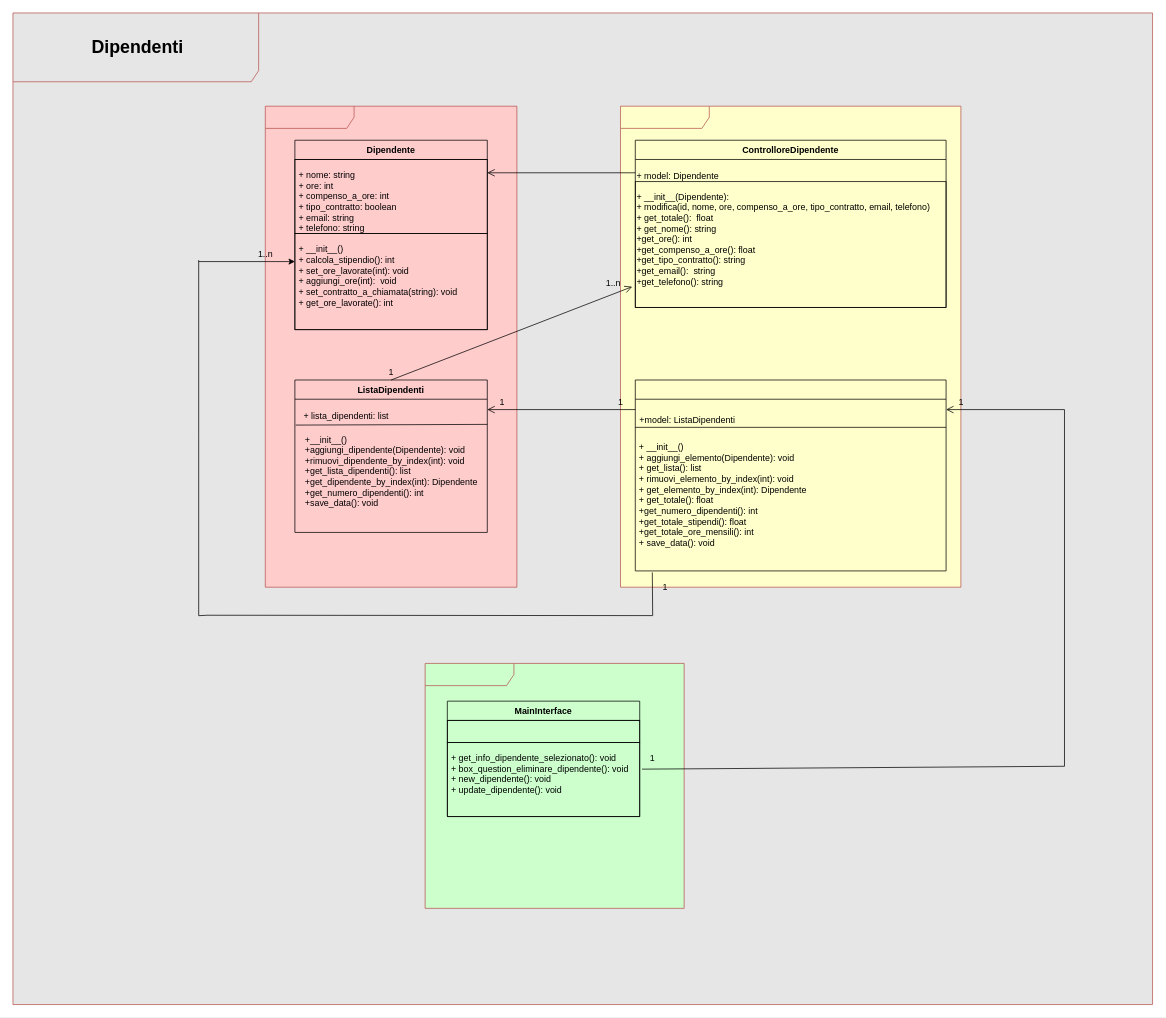
The diagram is 1166 pixels wide and 1018 high, and some of its shapes have lost their labels. The box of each missing label's shape, as (x1, y1, x2, y2) in pixels:
+ controller: ControlloreListaDipendenti: (447, 720, 640, 743)
controller: (620, 105, 961, 587)
ControlloreListaDipendenti: (635, 379, 946, 571)
model: (265, 105, 517, 587)
view: (424, 663, 684, 908)
